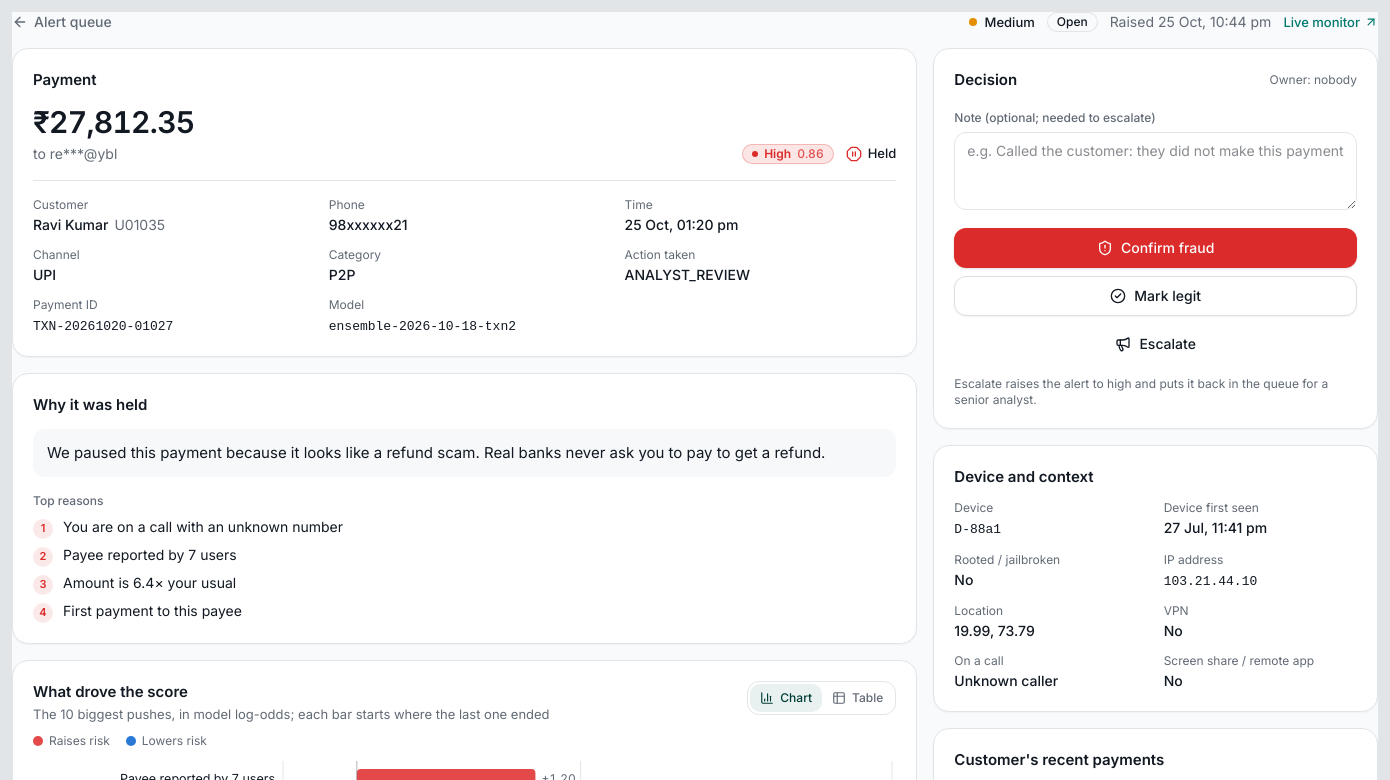
Test: Case Detail (spec 06 §3) › puts everything back and says why when saving fails
This screenshot has width=1390, height=780.
Click the button "Mark legit" at (1156, 296), box [954,276,1357,316]
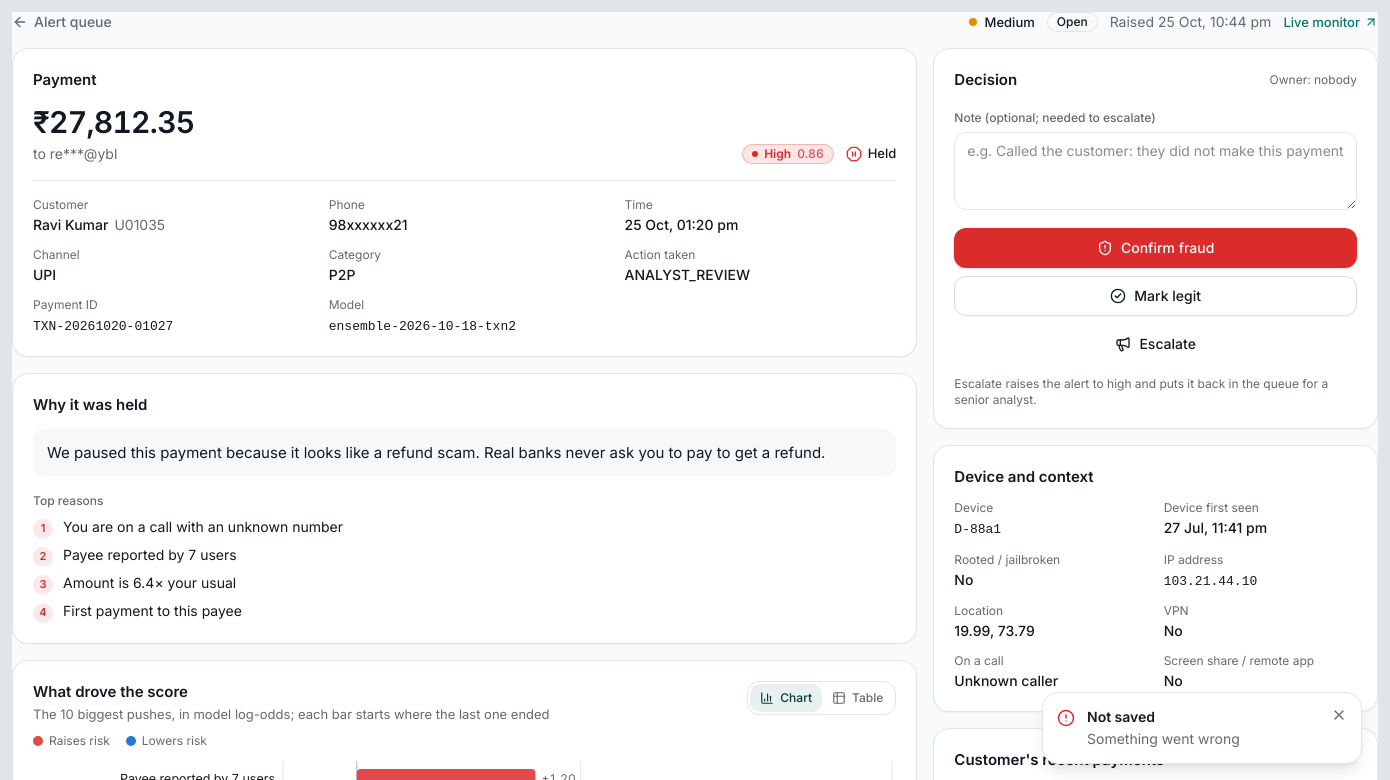
Result: the text "Not saved" is shown at [1087,708,1155,725]
Result: the text "Something went wrong" is shown at [1087,730,1240,747]
